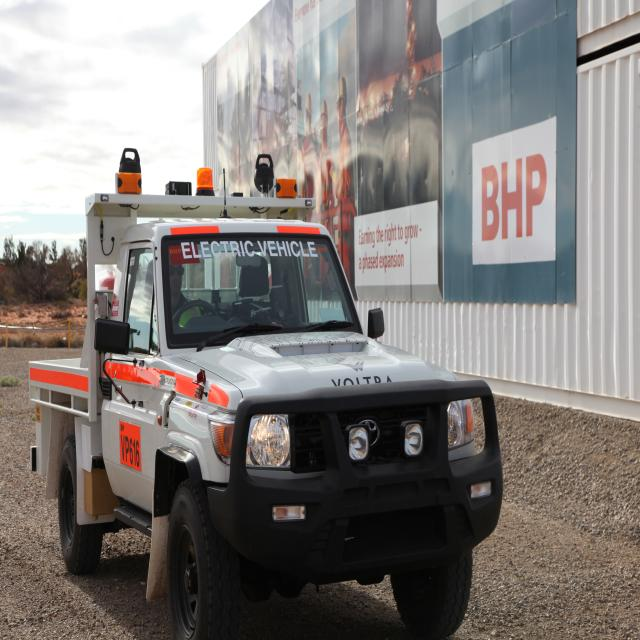light_vehicle: (18, 150, 516, 632)
